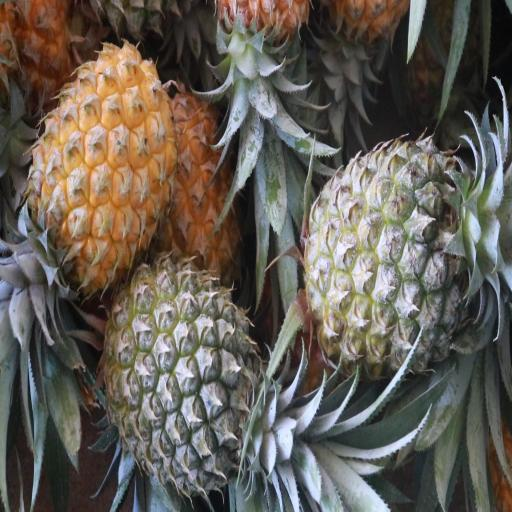Pineapple - v8 v1: (33, 46, 179, 291), (166, 89, 246, 279)
